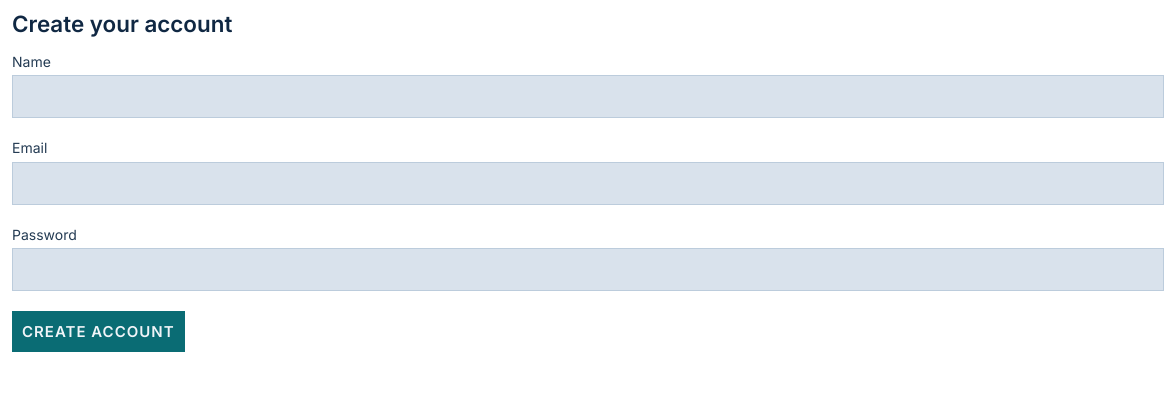
Test: Signup workflow › shows password validation error when password is too short
This screenshot has width=1176, height=401.
Type "short" into the password field labelled "Password" at (588, 270), box x1=12 y1=248 x2=1164 y2=291
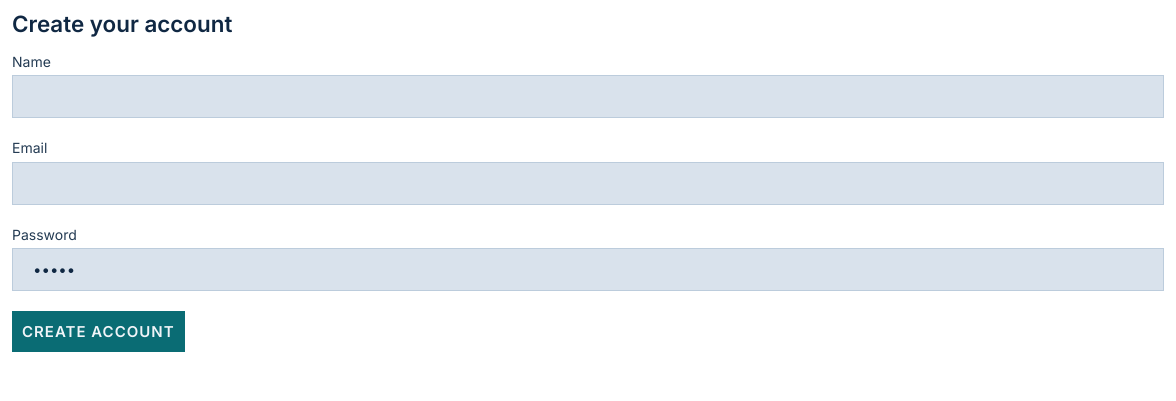
Leave the password field labelled "Password", box x1=12 y1=248 x2=1164 y2=291
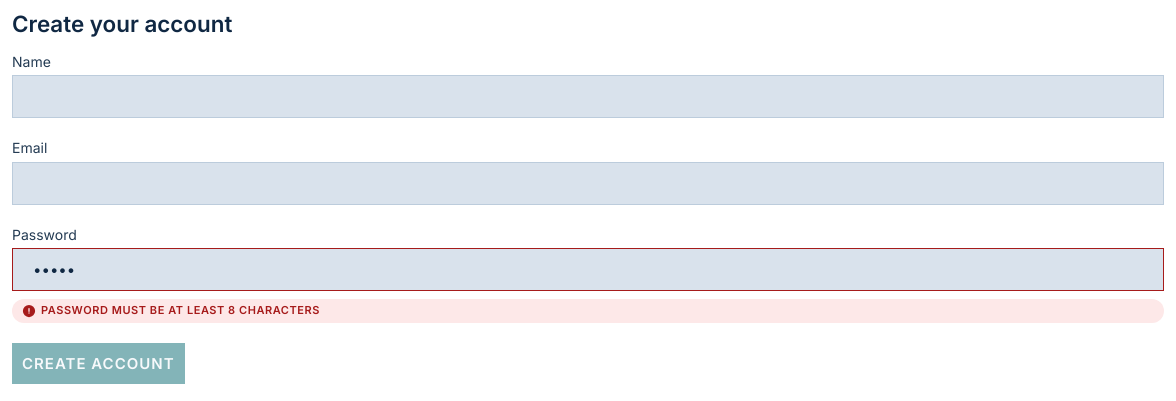
expect the text "Password must be at least 8 characters" is shown: met, box x1=12 y1=299 x2=1164 y2=323
